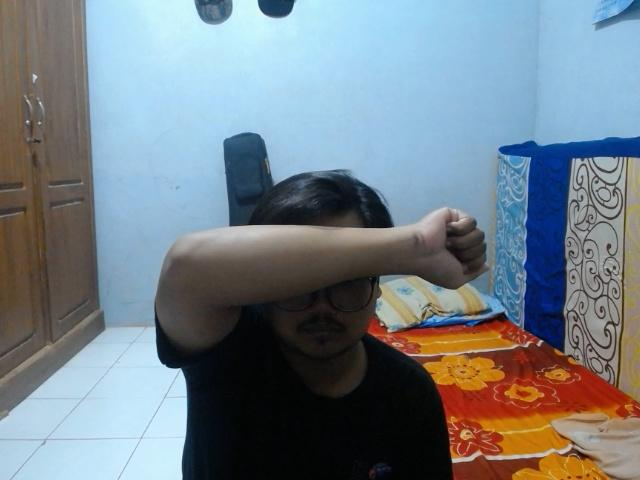Grab: (413, 202, 496, 293)
